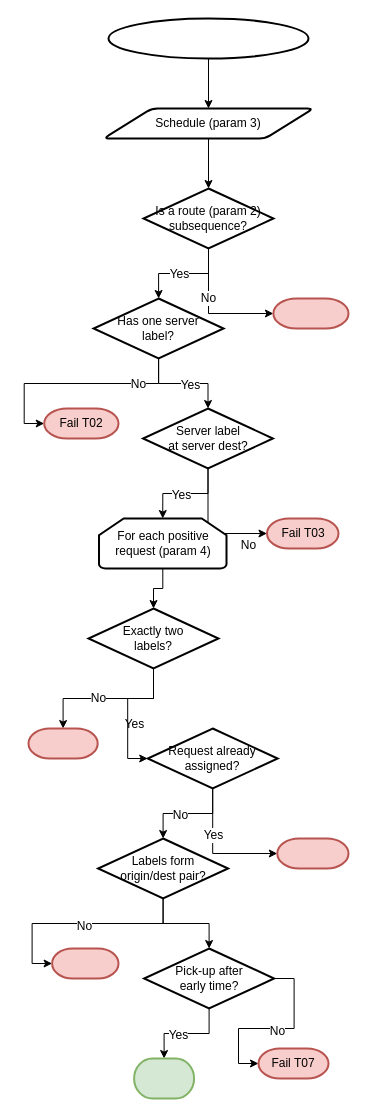
Some shapes in this 367 by 1116 pixel diagram are drawn without their labels. Here are the shapes that lost their labels. From the top down, the centre of each, then its label:
point (208, 38): Call DBUpdateServerService(5)
point (310, 313): Fail T01
point (62, 743): Fail T04
point (312, 853): Fail T05
point (85, 963): Fail T06
point (164, 1078): Success
